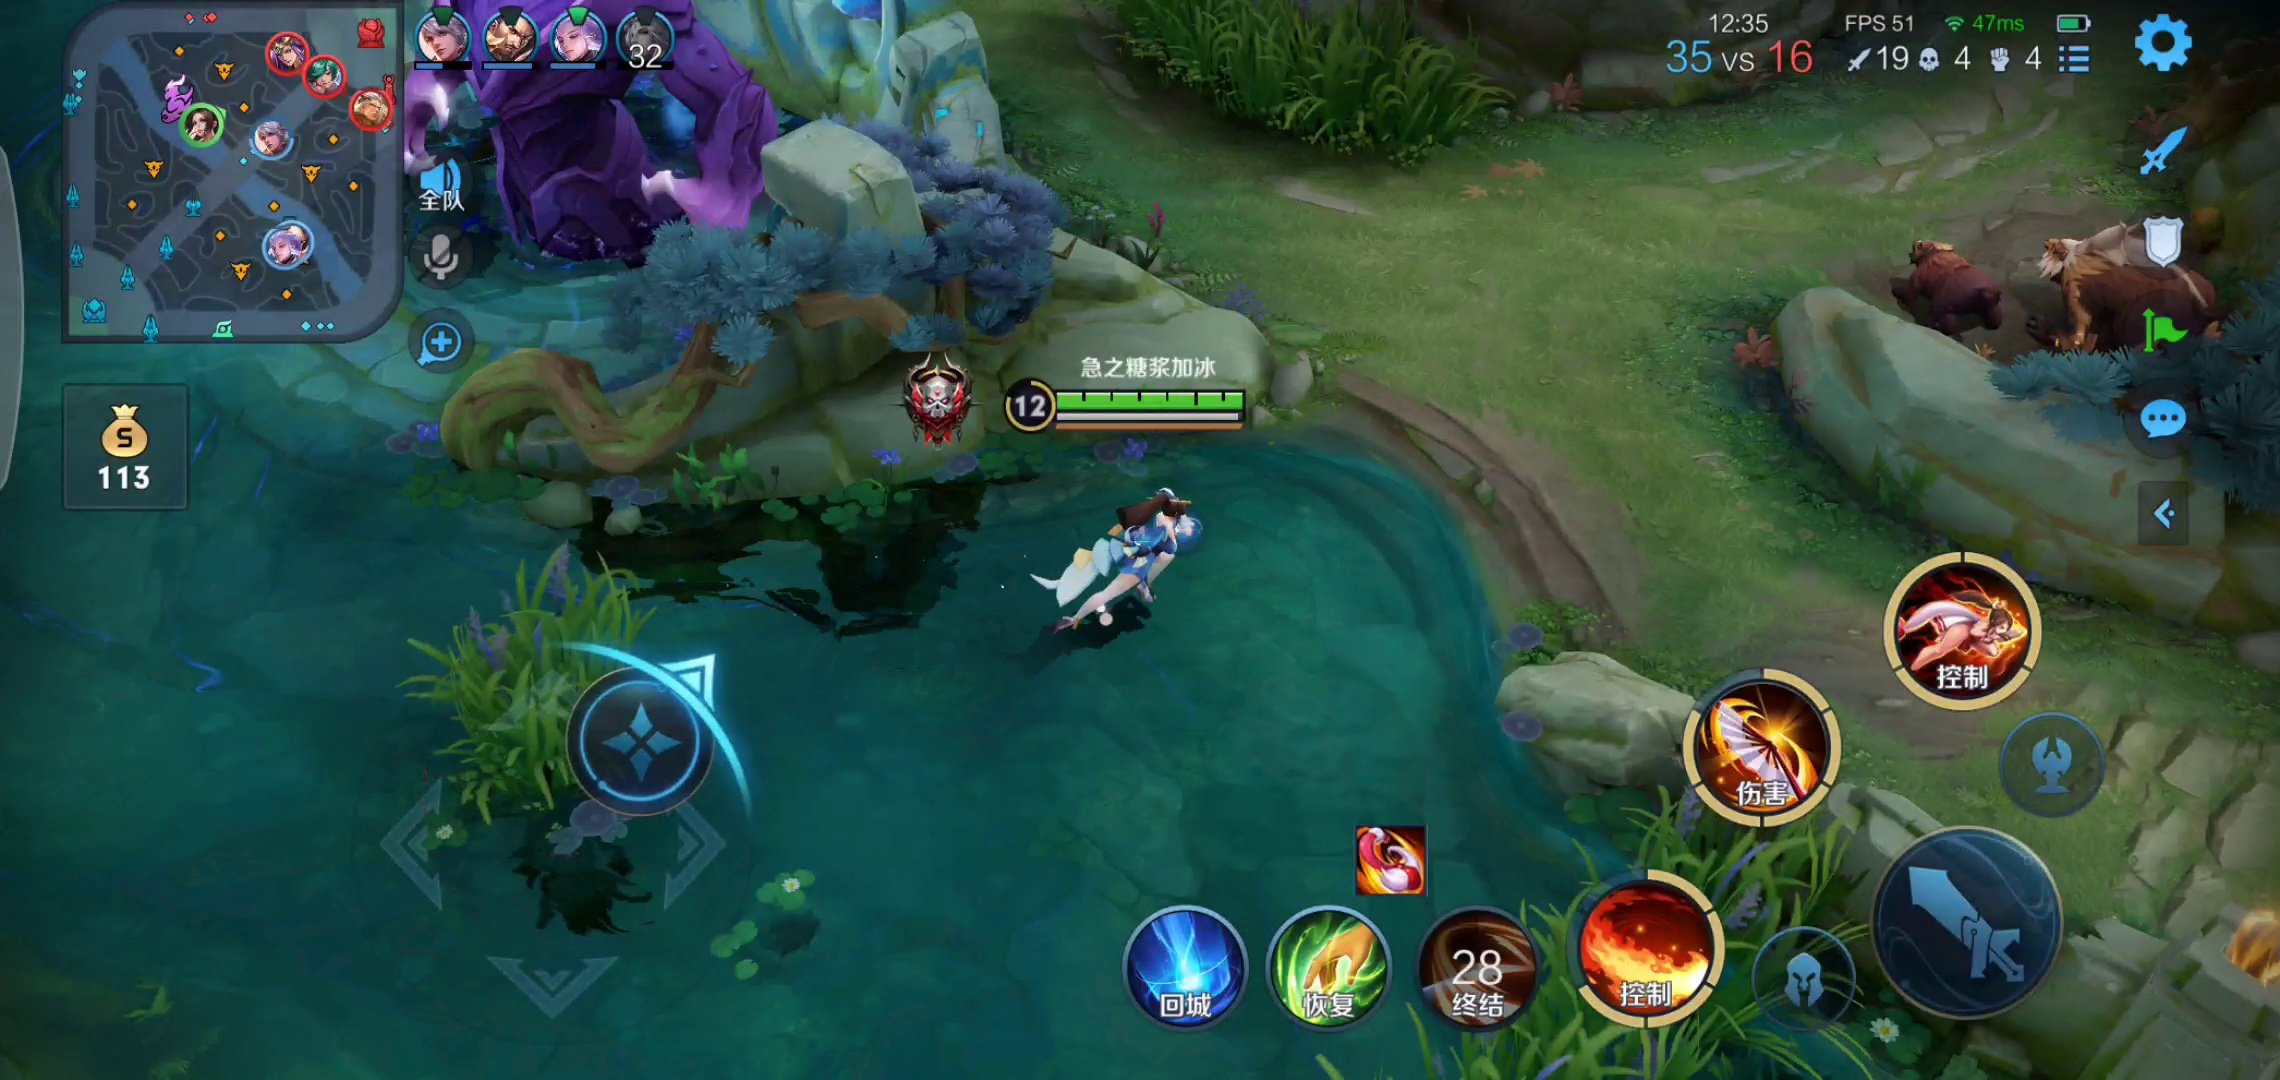dragon: (358, 1, 785, 310)
grass: (1384, 783, 1877, 1080), (398, 568, 686, 826), (1104, 1, 1492, 172)
hero: (1019, 467, 1224, 640)
wild_monster: (1902, 172, 2261, 385)
